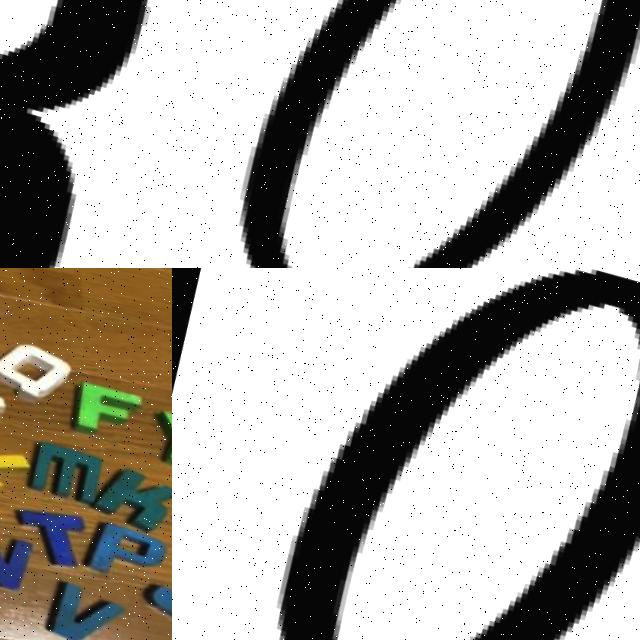0: (210, 268, 640, 640), (172, 0, 640, 268)
F: (63, 374, 149, 443)
J: (137, 563, 172, 640)
K: (93, 466, 172, 543)
L: (0, 410, 29, 483)
M: (26, 442, 104, 510)
N: (0, 522, 30, 595)
P: (68, 516, 160, 590)
Q: (0, 336, 81, 407)
T: (5, 500, 89, 571)
V: (26, 577, 124, 640)
Y: (136, 409, 172, 472)
